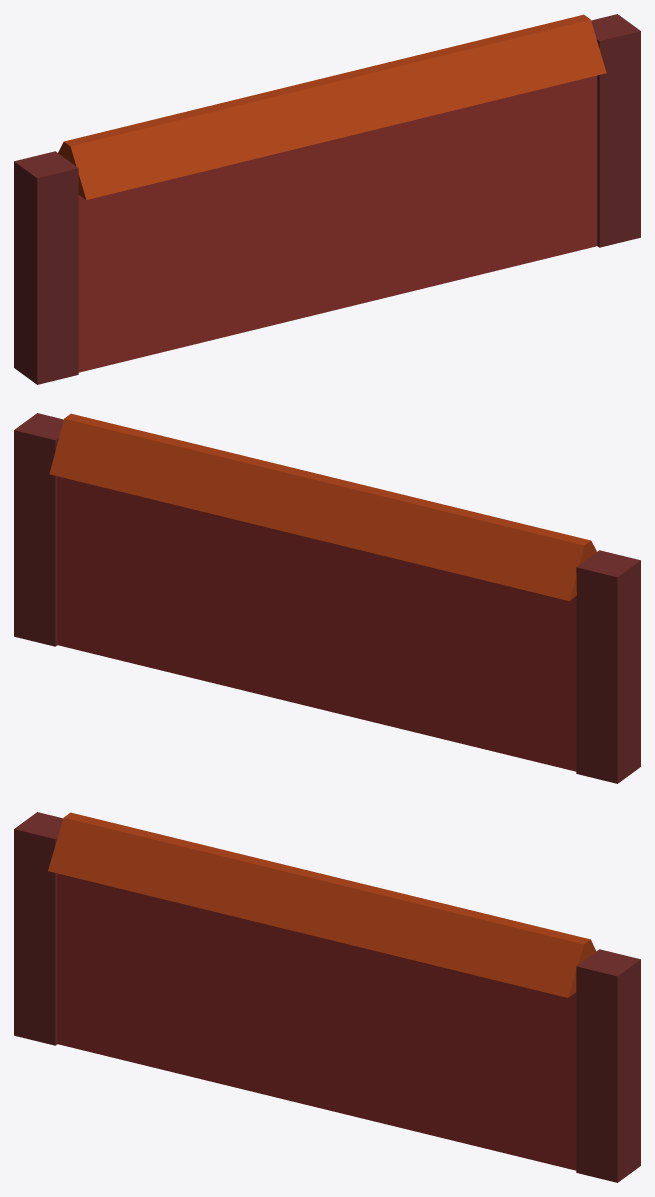
The model's file is temple-fence.glb.
The picture shows the model from 3 angles, top to bottom: view 1: azimuth 30°, elevation 25°; view 2: azimuth 150°, elevation 25°; view 3: azimuth 330°, elevation 25°; orthographic projection.
Visible parts, largest first — view 1: Cube, Cube.003, Cube.002, Cube.001; view 2: Cube, Cube.003, Cube.002, Cube.001; view 3: Cube, Cube.003, Cube.001, Cube.002.
Boxes of the visible parts, <box> form: Cube: <box>78,75,597,372</box>; Cube.003: <box>58,14,606,199</box>; Cube.002: <box>14,151,78,384</box>; Cube.001: <box>591,14,640,247</box>; Cube: <box>57,476,576,771</box>; Cube.003: <box>49,413,596,600</box>; Cube.002: <box>576,550,640,783</box>; Cube.001: <box>14,413,63,646</box>; Cube: <box>57,873,576,1170</box>; Cube.003: <box>48,812,596,997</box>; Cube.001: <box>576,949,640,1182</box>; Cube.002: <box>14,812,63,1045</box>.
Bounding box in the file's own units: 11.01 × 3.87 × 1.21.
